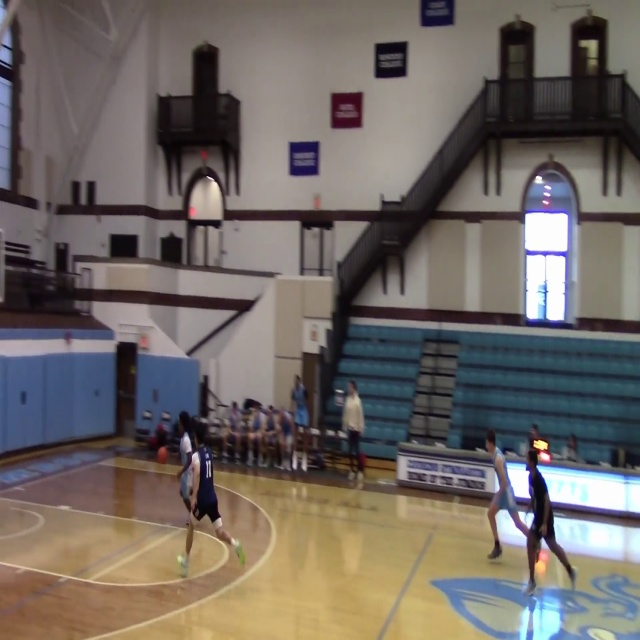Basketball: (179, 467, 193, 499), (157, 446, 168, 463), (538, 549, 550, 563), (539, 451, 551, 463)
